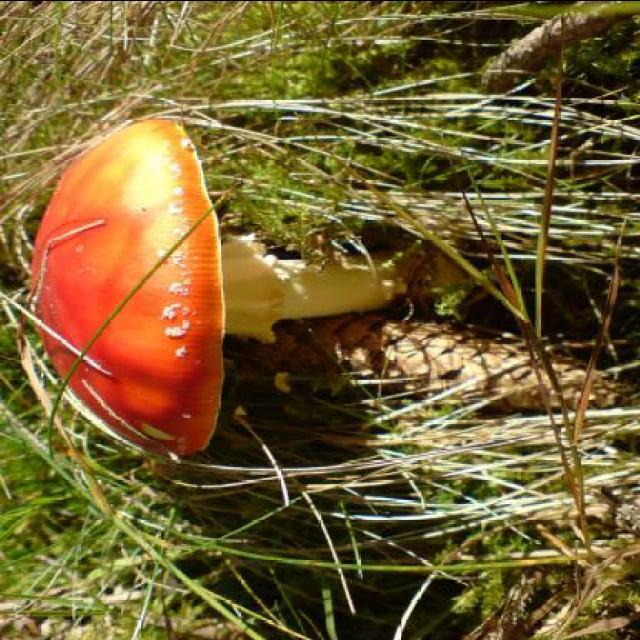Mushroom: (29, 113, 438, 464)
